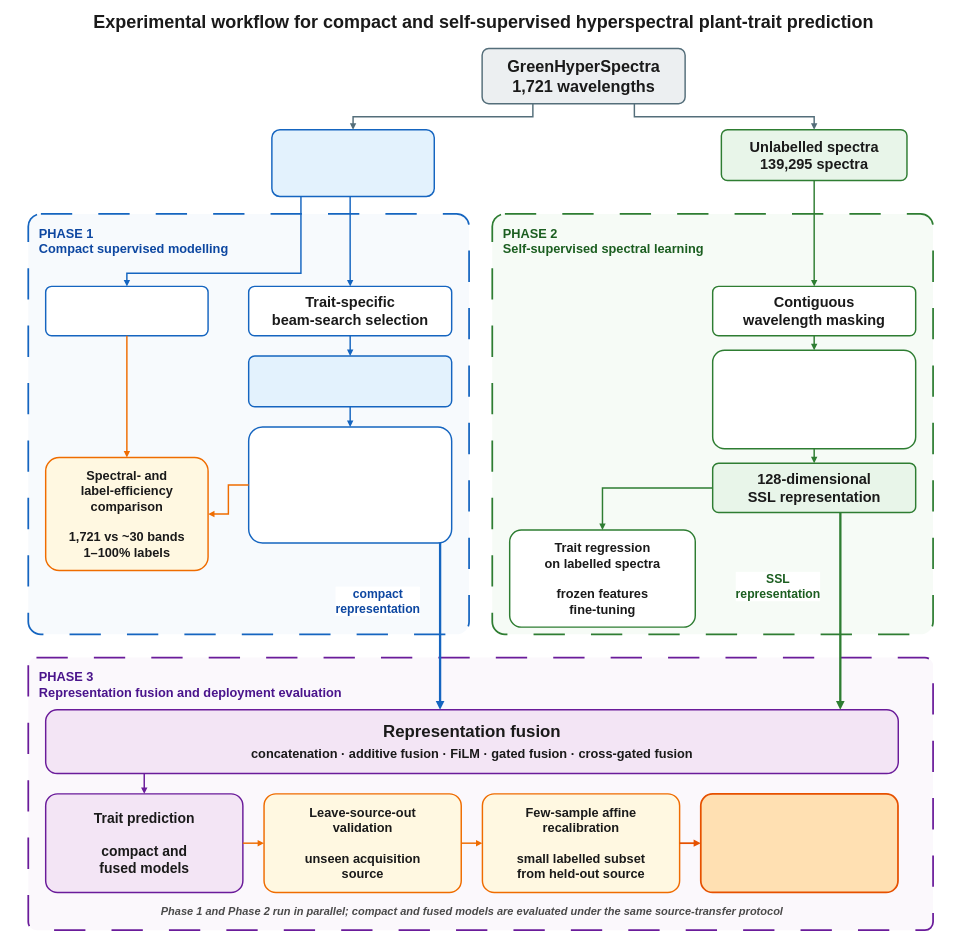
Some shapes in this 967 by 936 pixel diagram are drawn without their labels. The centre of each missing label's shape, as x and y in pixels:
"1D masked spectral encoder reconstruct masked intervals" goes at [814,399].
"Compact regression models Residual MLP · MLP Polynomial · KAN DCN · NAM" goes at [350,485].
"Full-spectrum reference models" goes at [127,311].
"Labelled spectra 5,635 spectra 8 plant traits" goes at [353,163].
"Plant-trait prediction performance, transferability, deployment feasibility" goes at [799,843].
"~30 wavelengths per trait" goes at [350,381].
